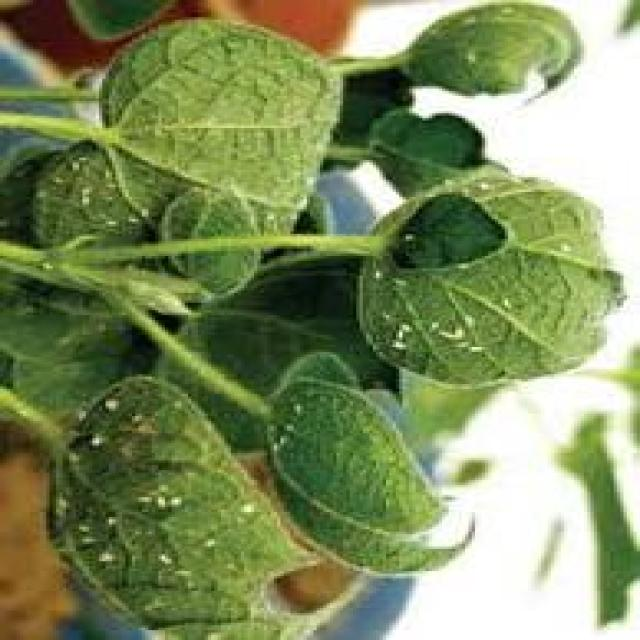Leaf Curl Virus: (98, 72, 526, 569)
